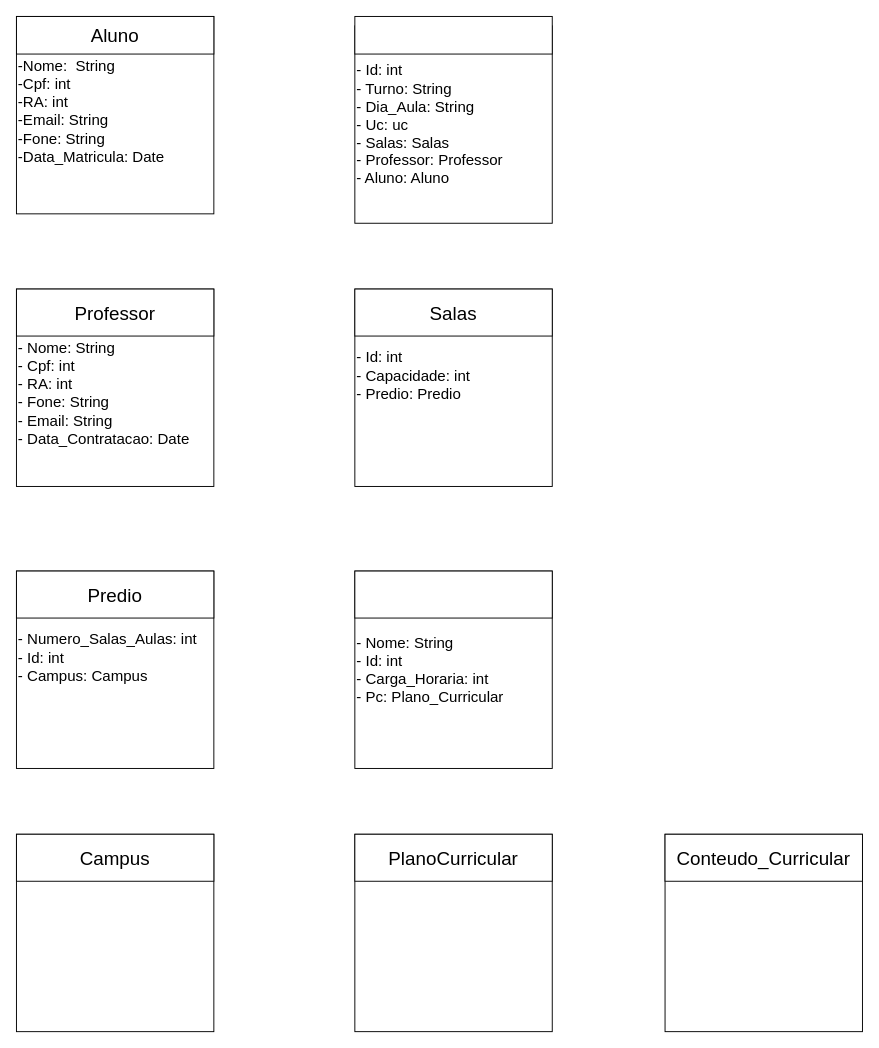
Image size: 879x1048. Some labels were removed from this diagram. The box of each missing label's shape, as (x1, y1, x2, y2) in pixels:
- Id: int - Descricao: String: (664, 833, 862, 1032)
- Id: int - Nome_Plano: String - Quantidade_Semestres: int: (354, 833, 552, 1032)
- Nome: String - Id: int: (16, 833, 214, 1032)
Turma: (354, 16, 552, 54)
UC: (354, 570, 552, 618)
